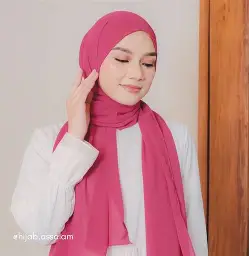kerudung_benar: (74, 9, 161, 128)
